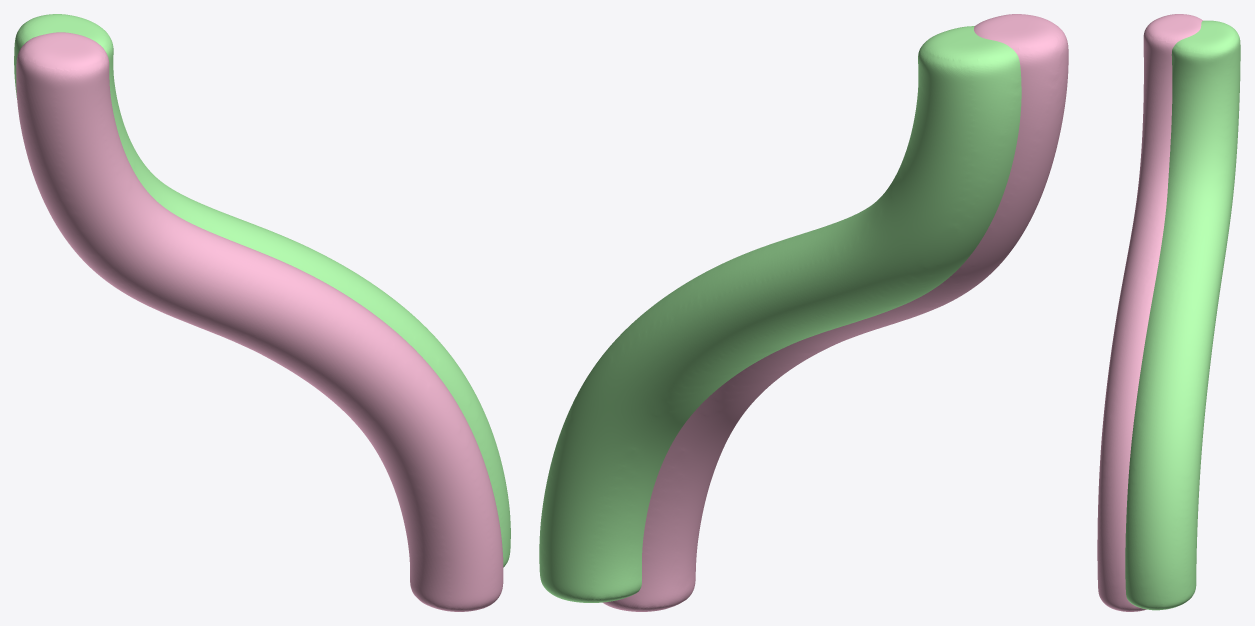
Rendered from GEO_Stock_6.glb.
3 renders of one model, left to right at view 1: azimuth 30°, elevation 25°; view 2: azimuth 150°, elevation 25°; view 3: azimuth 270°, elevation 25°, orthographic. The views are drawn at different scales.
Visible parts, largest first — view 1: Tube, Tube 1; view 2: Tube 1, Tube; view 3: Tube 1, Tube.
Part boxes in pixels (x1,y1,x2,y2): Tube: (16,32,503,611); Tube 1: (14,14,510,567); Tube 1: (539,26,1021,602); Tube: (603,14,1068,611); Tube 1: (1125,20,1240,610); Tube: (1097,14,1202,611).
Bounding box in the file's own units: 0.7041 × 0.8914 × 0.256.
